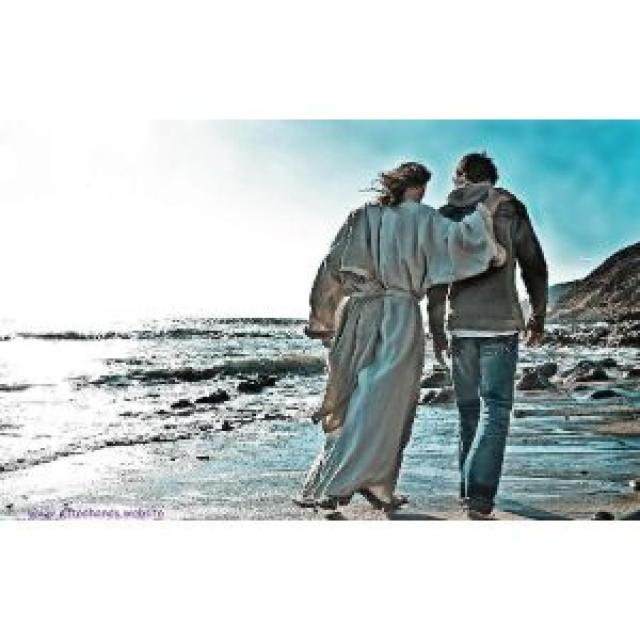nonfall: (312, 144, 423, 517), (447, 131, 545, 519)
